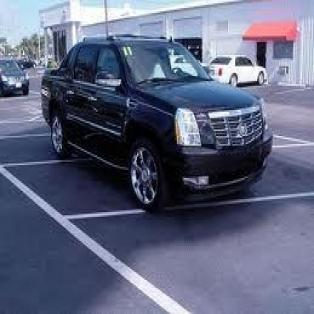Auto: (36, 31, 276, 214)
